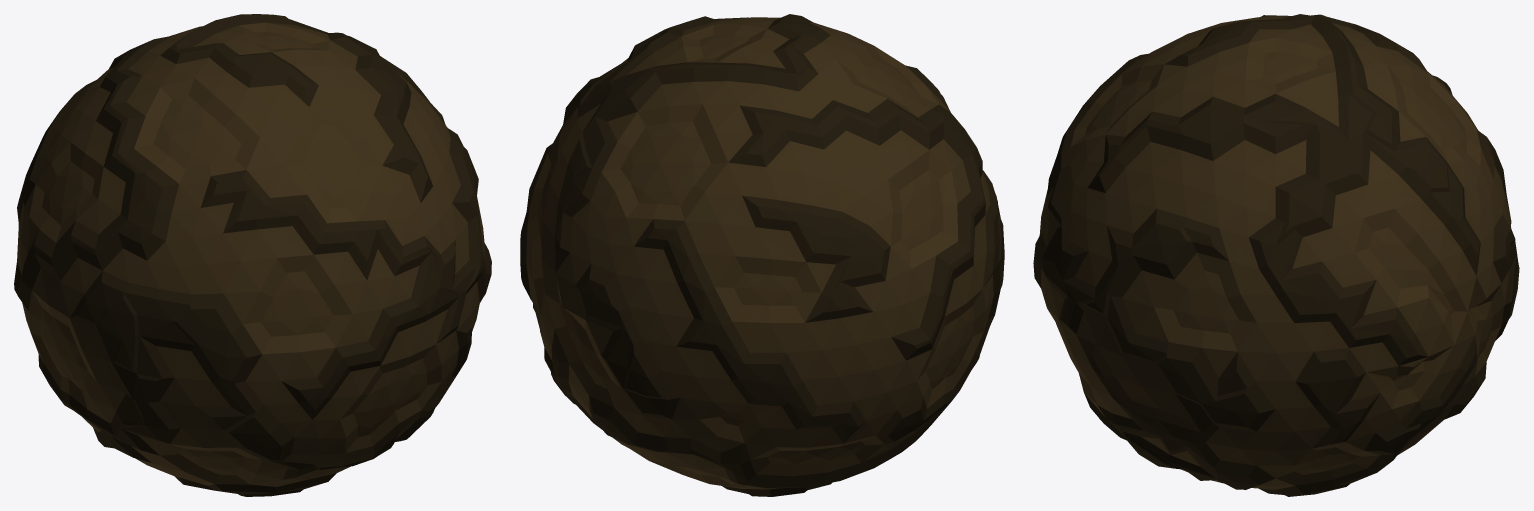
The model's file is barren_1.glb.
The picture shows the model from 3 angles, left to right: view 1: azimuth 30°, elevation 25°; view 2: azimuth 150°, elevation 25°; view 3: azimuth 270°, elevation 25°; orthographic projection.
Visible parts, largest first — view 1: Barren 1; view 2: Barren 1; view 3: Barren 1.
Part boxes in pixels (bbox=[...]): Barren 1: bbox=[14, 14, 491, 496]; Barren 1: bbox=[520, 14, 1004, 496]; Barren 1: bbox=[1033, 14, 1519, 496].
Bounding box in the file's own units: 10.07 × 10.11 × 10.24.
1 material, 1 textured.
